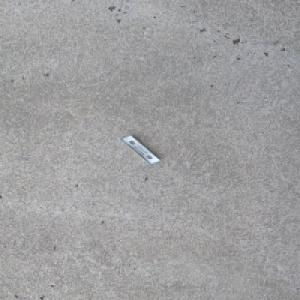ClampPart: (118, 134, 161, 165)
